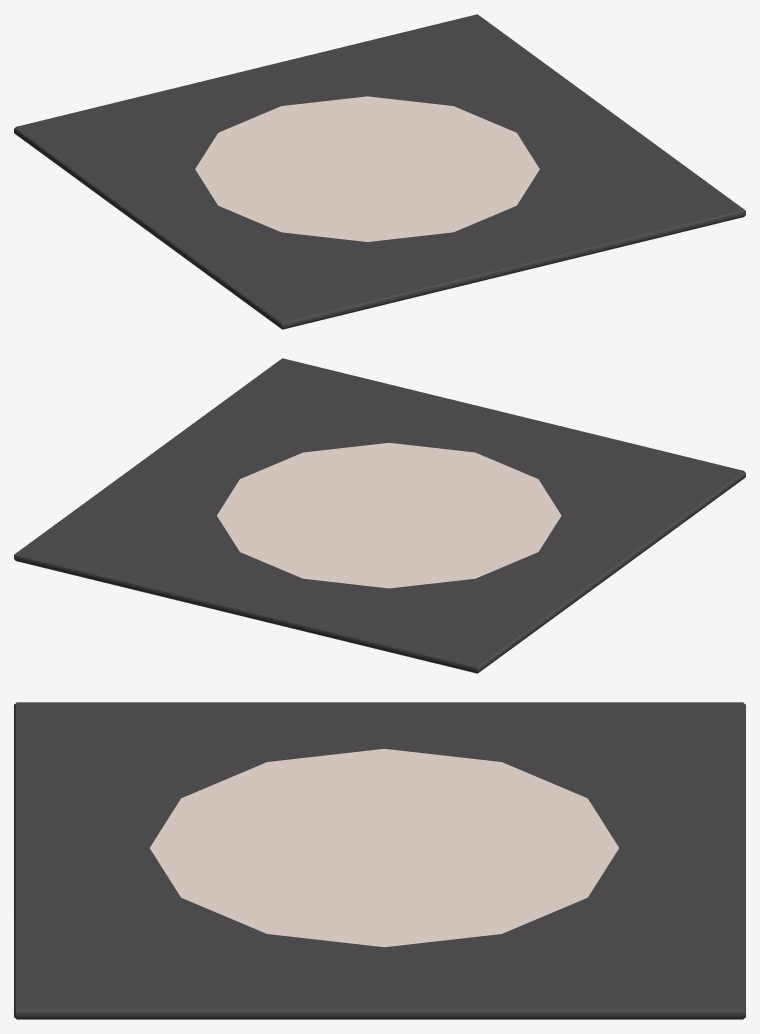
Rendered from Vinyl_box_1.glb.
3 renders of one model, top to bottom at view 1: azimuth 30°, elevation 25°; view 2: azimuth 150°, elevation 25°; view 3: azimuth 270°, elevation 25°, orthographic. The views are drawn at different scales.
Parts seen in each view (by area): view 1: Vinyl_box_1; view 2: Vinyl_box_1; view 3: Vinyl_box_1.
Part boxes in pixels (x1,y1,x2,y2): Vinyl_box_1: [14, 14, 745, 329]; Vinyl_box_1: [14, 358, 745, 673]; Vinyl_box_1: [14, 702, 745, 1019].
Size of the model in its own units: 0.2944 by 0.00489 by 0.2944.
1 material, 1 textured.
